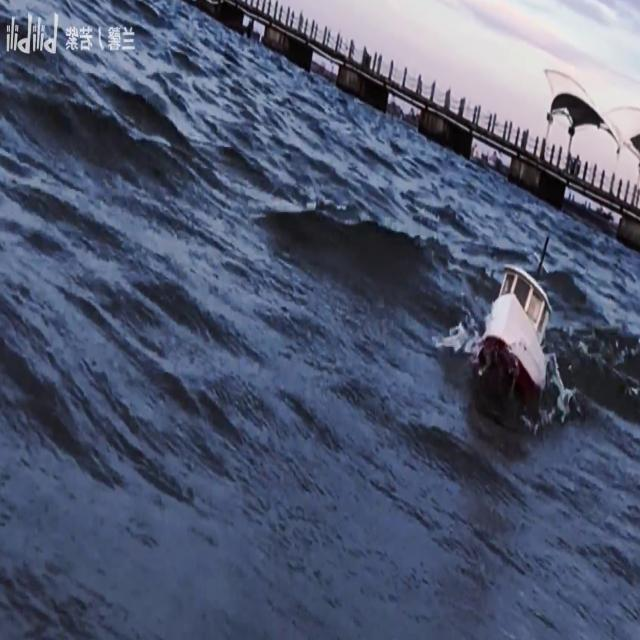houseboat: (472, 233, 554, 420)
